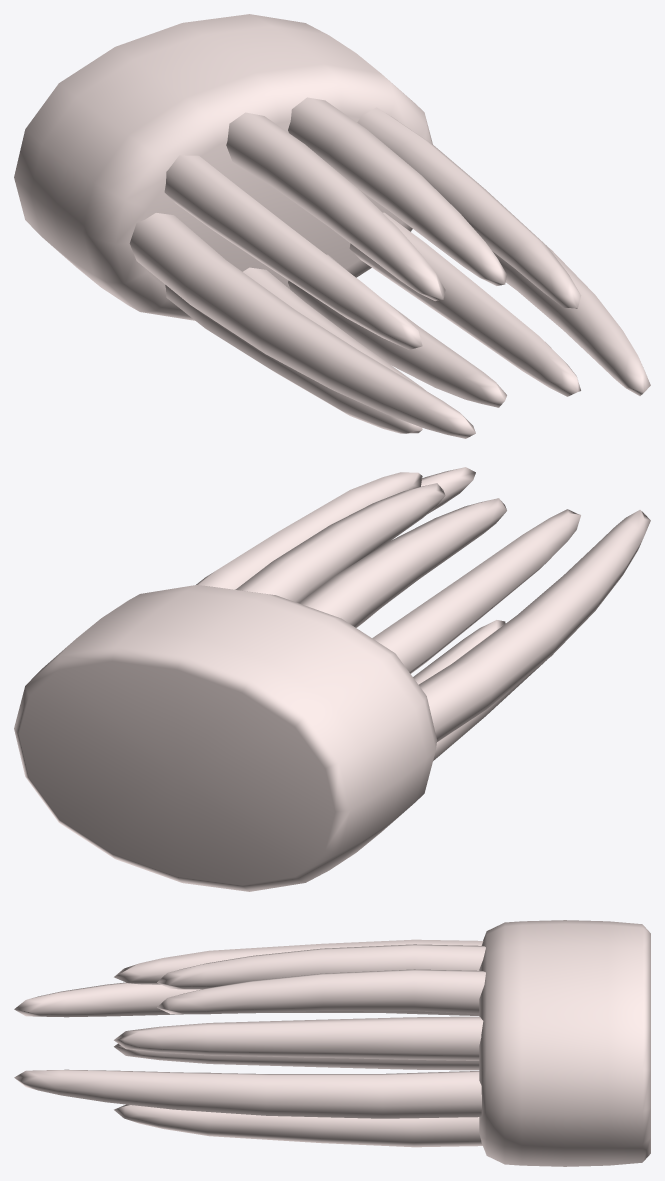
The model's file is Squid_2_Half_2.fbx.
3 renders of one model, top to bottom at view 1: azimuth 30°, elevation 25°; view 2: azimuth 150°, elevation 25°; view 3: azimuth 270°, elevation 25°, orthographic. The views are drawn at different scales.
Parts seen in each view (by area): view 1: Squid_2_Half_2; view 2: Squid_2_Half_2; view 3: Squid_2_Half_2.
Part boxes in pixels (bbox=[...]): Squid_2_Half_2: bbox=[14, 14, 650, 438]; Squid_2_Half_2: bbox=[14, 467, 650, 891]; Squid_2_Half_2: bbox=[14, 920, 650, 1166].
Size of the model in its own units: 9.71 by 6.26 by 18.5.
